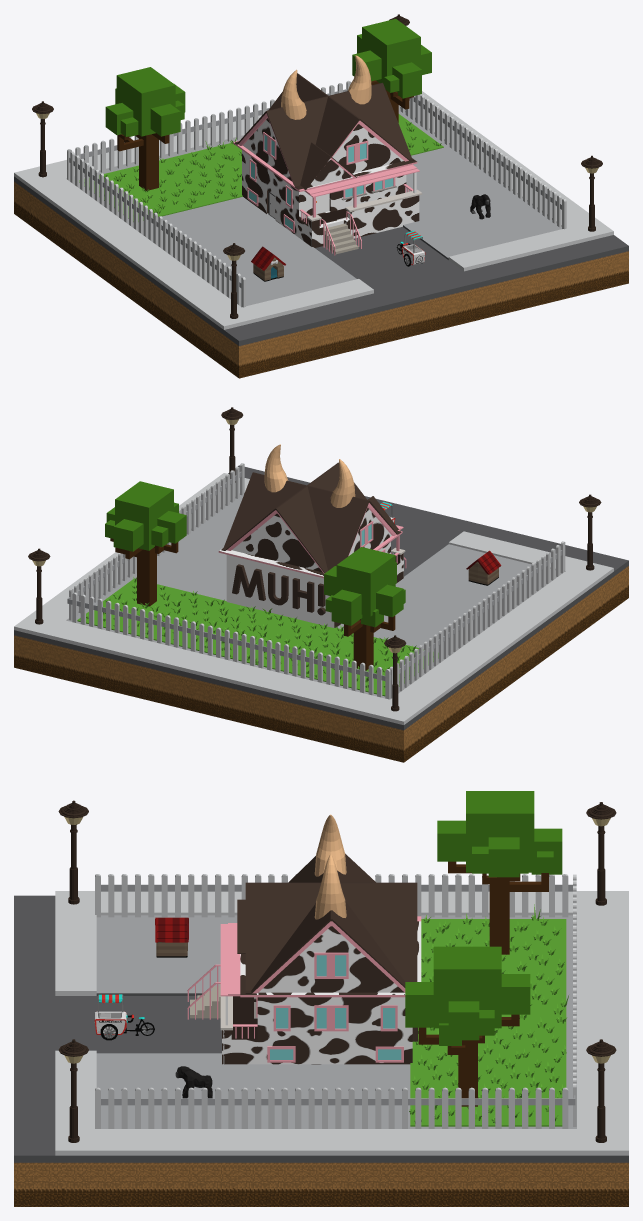
3 views of the same model, one above another, from view 1: azimuth 30°, elevation 25°; view 2: azimuth 150°, elevation 25°; view 3: azimuth 270°, elevation 25° (orthographic). The views are drawn at different scales.
Parts seen in each view (by area): view 1: Cube.004, Cube.1242, OBJRANDOM_DOGHOUSE, VEHICLES_SNOWBAL_BIKE; view 2: Cube.004, Cube.1242, OBJRANDOM_DOGHOUSE; view 3: Cube.004, Cube.1242, VEHICLES_SNOWBAL_BIKE, OBJRANDOM_DOGHOUSE, ANIMAL_GORILA.
Part boxes in pixels (box(x1,y1,x2,y2)): Cube.004: box(14, 14, 628, 378); Cube.1242: box(233, 55, 422, 255); OBJRANDOM_DOGHOUSE: box(251, 246, 285, 281); VEHICLES_SNOWBAL_BIKE: box(396, 230, 425, 266); Cube.004: box(14, 407, 628, 762); Cube.1242: box(218, 444, 406, 627); OBJRANDOM_DOGHOUSE: box(466, 550, 501, 585); Cube.004: box(14, 791, 628, 1206); Cube.1242: box(187, 814, 421, 1064); VEHICLES_SNOWBAL_BIKE: box(94, 994, 154, 1040); OBJRANDOM_DOGHOUSE: box(155, 917, 188, 957); ANIMAL_GORILA: box(175, 1066, 212, 1098).
Bounding box in the file's own units: 4000 × 1860 × 4000.
43 materials, 3 textured.
